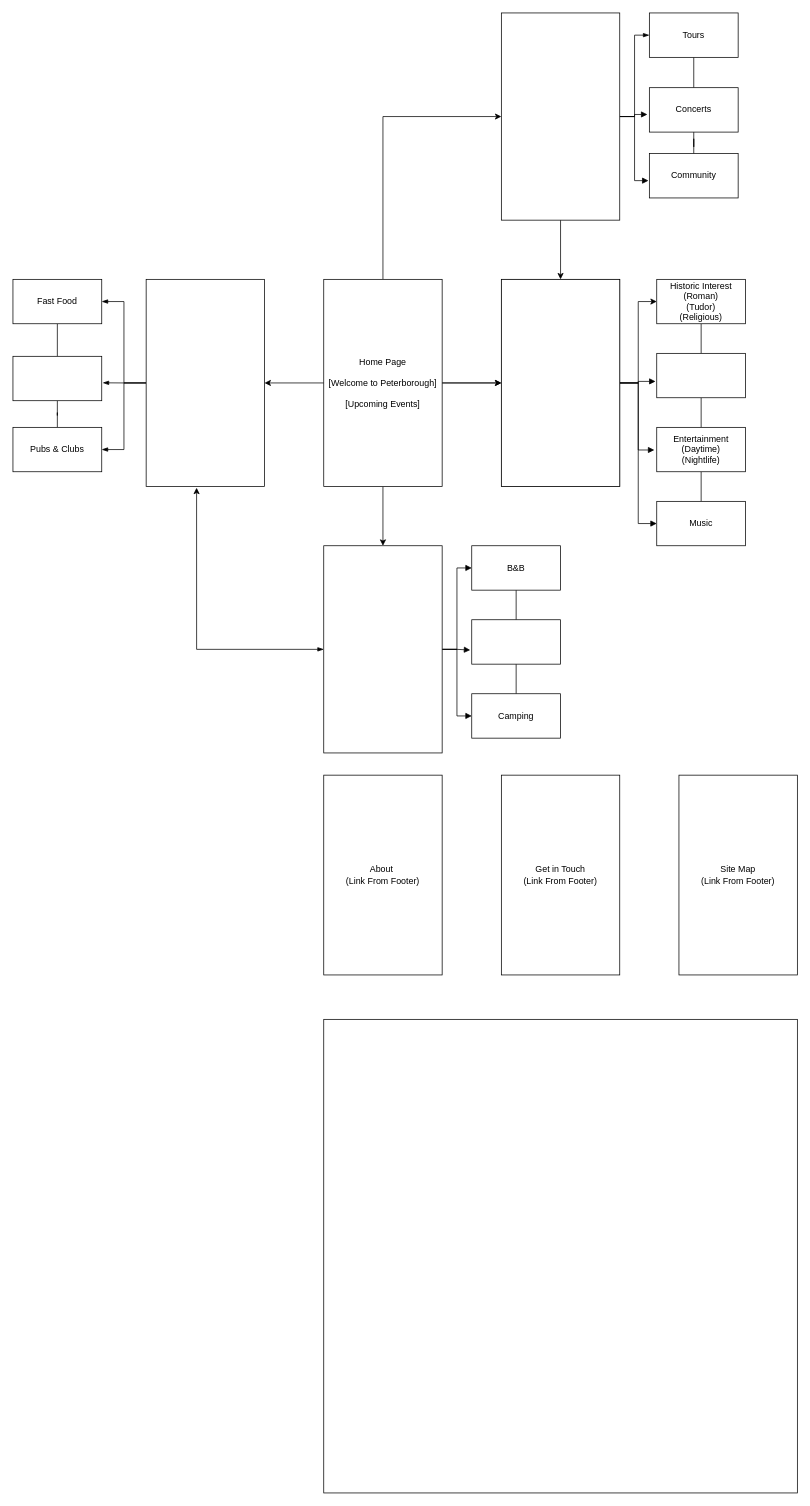
This 810x1506 diagram has some shape labels left out. Here are the shapes that lost their labels. From the top down, the box of each, then its label:
(501, 12, 620, 220): Events Calendar
(12, 356, 102, 401): Fine Dining
(145, 279, 265, 487): Places to Eat & Drink
(501, 279, 620, 487): Things To Do [Upcoming Events] [Where to Stay]
(656, 353, 746, 398): Health & Sports
(323, 545, 442, 753): Where to Stay [Places to Eat & Drink]
(471, 619, 561, 664): Hotels
